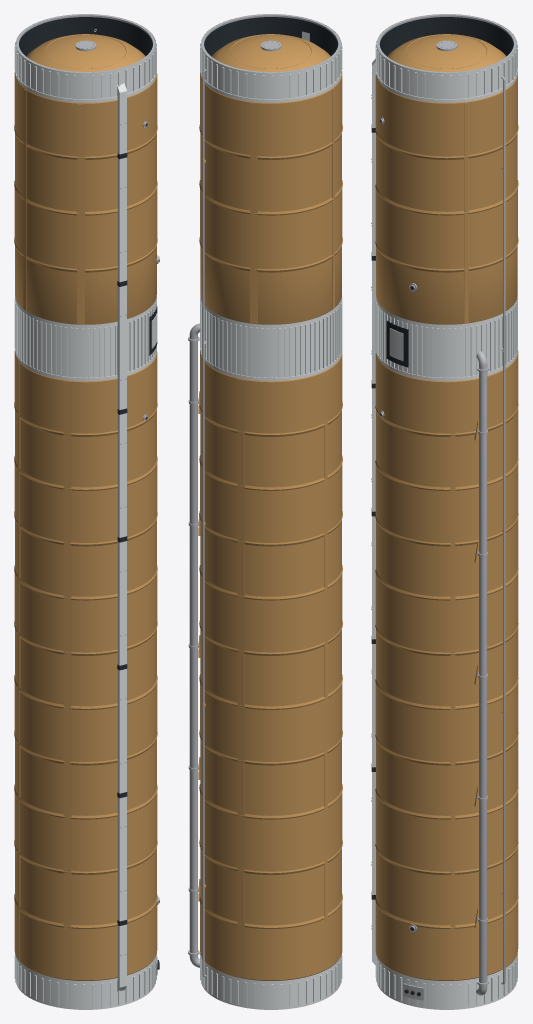
The model's file is tank_s1_m_hydrolox.fbx.
The picture shows the model from 3 angles, left to right: view 1: azimuth 30°, elevation 25°; view 2: azimuth 150°, elevation 25°; view 3: azimuth 270°, elevation 25°; orthographic projection.
Visible parts, largest first — view 1: tank_s1_m_hydrolox_LOD0; view 2: tank_s1_m_hydrolox_LOD0; view 3: tank_s1_m_hydrolox_LOD0.
Boxes of the visible parts, x1,y1,x2,y2 form: tank_s1_m_hydrolox_LOD0: [14, 14, 159, 1009]; tank_s1_m_hydrolox_LOD0: [188, 14, 342, 1009]; tank_s1_m_hydrolox_LOD0: [371, 14, 518, 1009].
Size of what is drawn, in the model's own units: 5.62 by 39.8 by 5.67.
